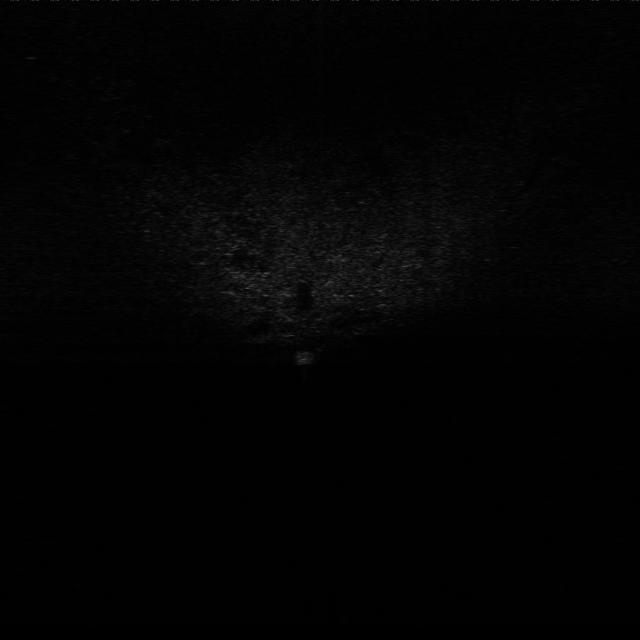cube: (293, 347, 319, 368)
